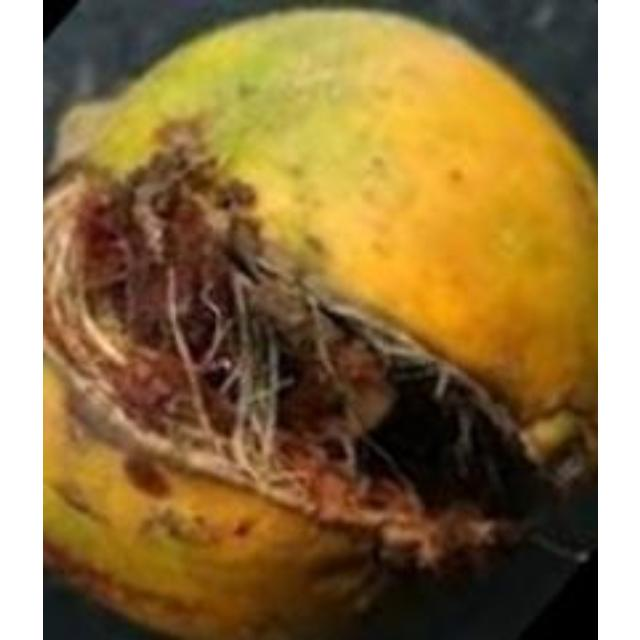damaged: (42, 8, 594, 637)
